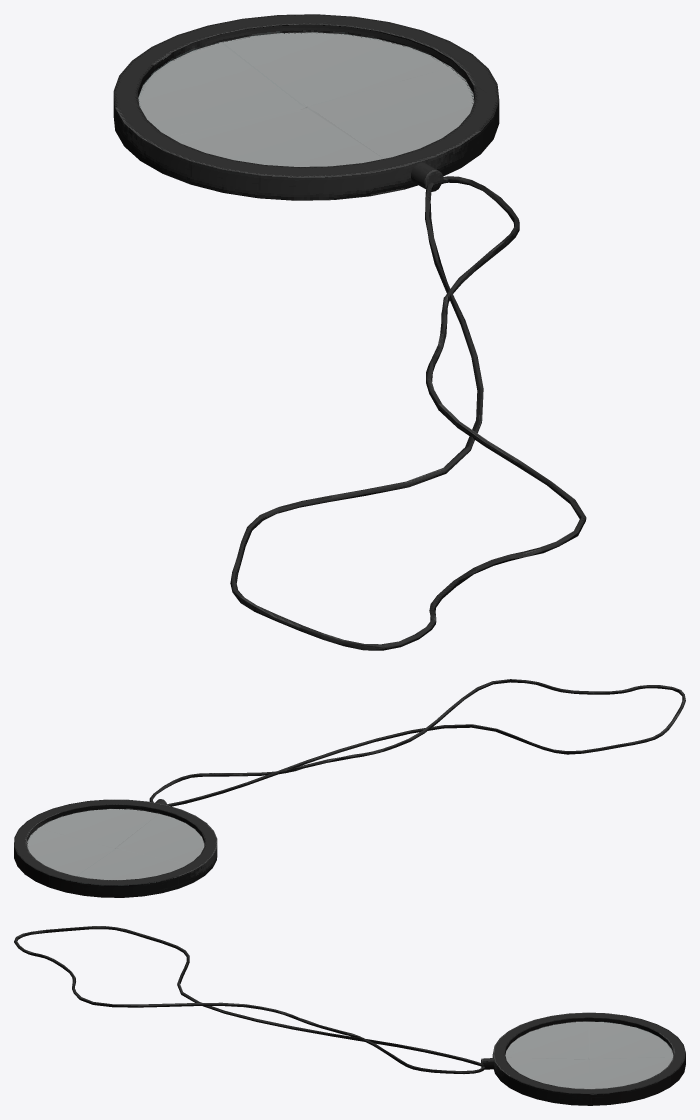
Rendered from wear_monocle.glb.
The picture shows the model from 3 angles, top to bottom: view 1: azimuth 30°, elevation 25°; view 2: azimuth 150°, elevation 25°; view 3: azimuth 270°, elevation 25°; orthographic projection. The views are drawn at different scales.
Parts seen in each view (by area): view 1: mesh; view 2: mesh; view 3: mesh.
Boxes of the visible parts, bbox=[...] form: mesh: bbox=[113, 14, 586, 650]; mesh: bbox=[14, 679, 685, 897]; mesh: bbox=[14, 926, 685, 1105].
Size of the model in its own units: 1.92 by 0.0601 by 3.12.
Materials: 1 (1 with a texture image).
